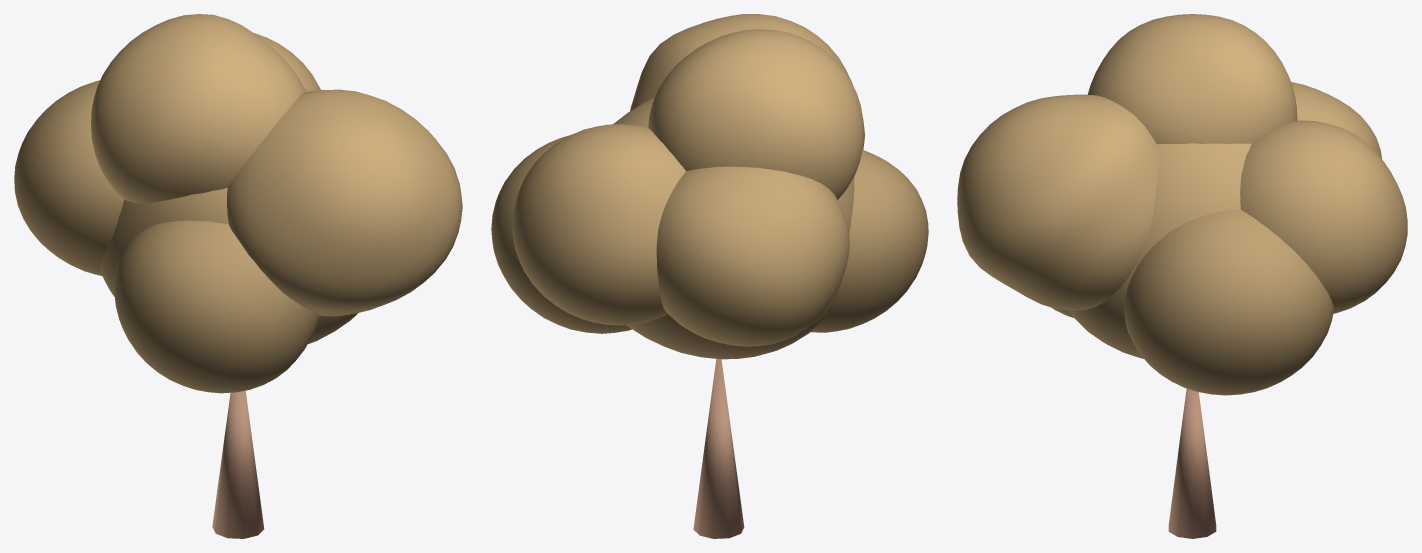
File: tree_a_autumn.glb
3 views of the same model, side by side, from view 1: azimuth 30°, elevation 25°; view 2: azimuth 150°, elevation 25°; view 3: azimuth 270°, elevation 25° (orthographic). The views are drawn at different scales.
Visible parts, largest first — view 1: crown, trunk; view 2: crown, trunk; view 3: crown, trunk.
Part boxes in pixels (x1=…): crown: x1=14, y1=14, x2=462, y2=393; trunk: x1=212, y1=390, x2=264, y2=538; crown: x1=491, y1=14, x2=928, y2=359; trunk: x1=693, y1=359, x2=744, y2=538; crown: x1=957, y1=14, x2=1407, y2=395; trunk: x1=1168, y1=388, x2=1216, y2=538.
Bounding box in the file's own units: 5.12 × 6.88 × 5.76.
